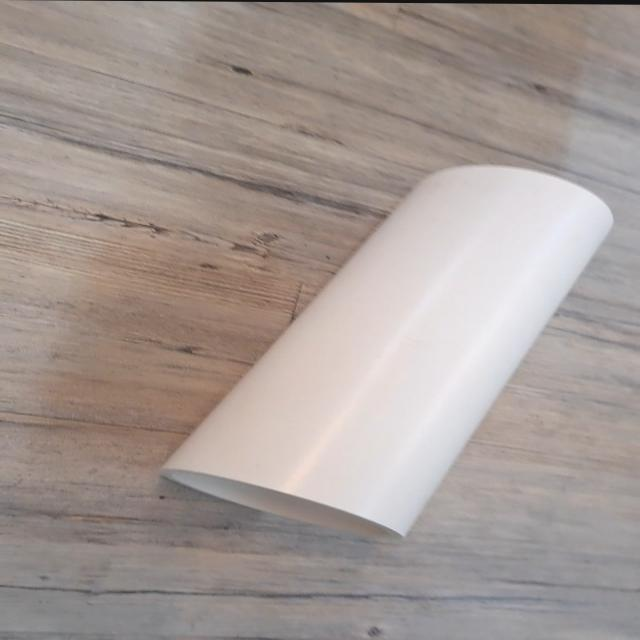CORAL: (133, 119, 628, 556)
